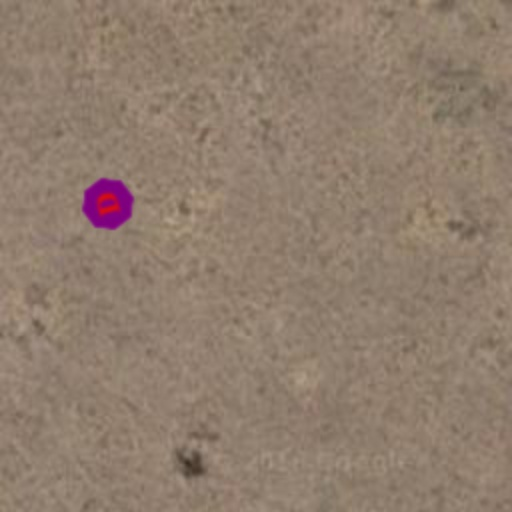octagon: (74, 170, 142, 238)
